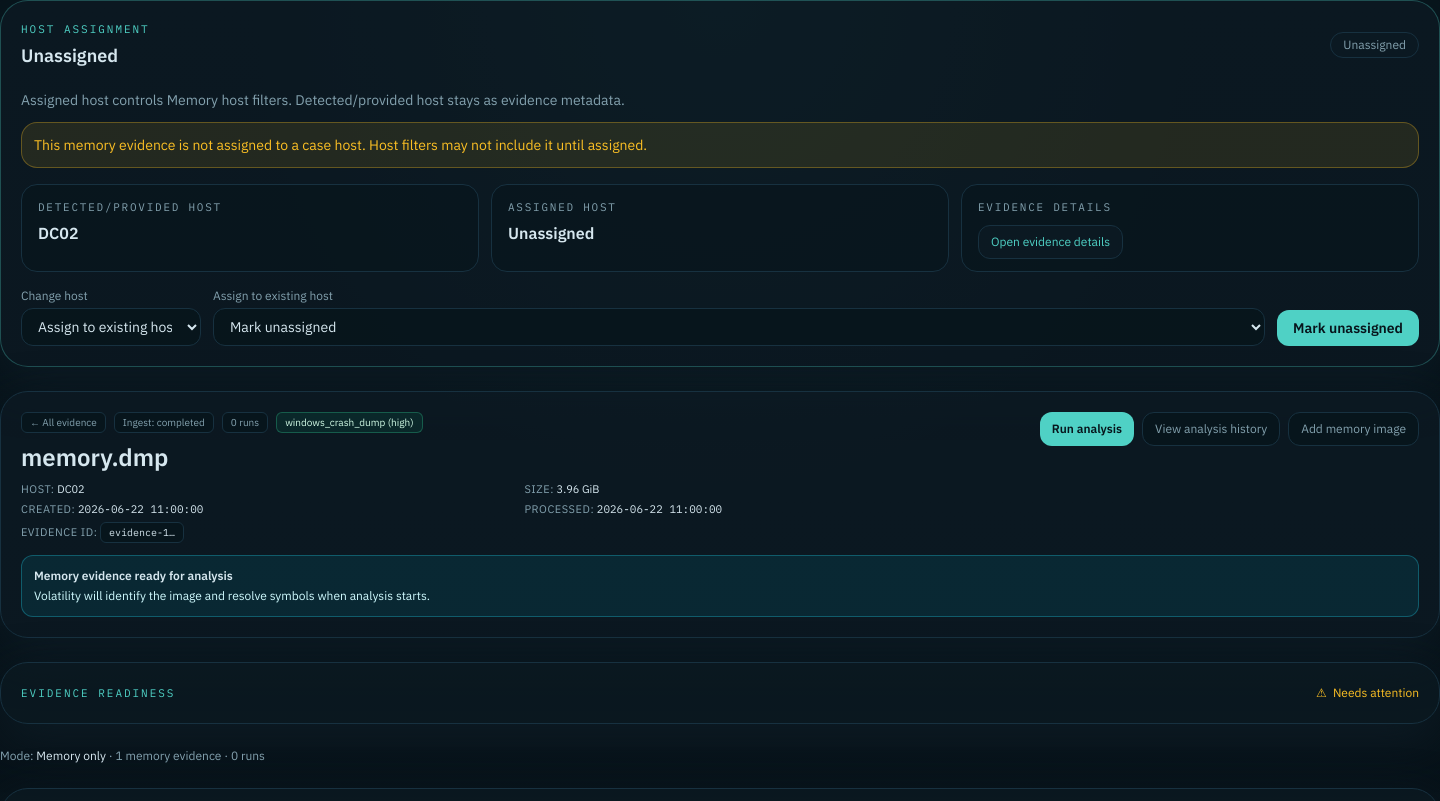
Test case: Automatic Windows symbol preparation › 12. narrow viewport (responsive)
Step 1. Click the text "Evidence readiness" → (98, 692), box 21,682 -> 176,702
(page scrolled)
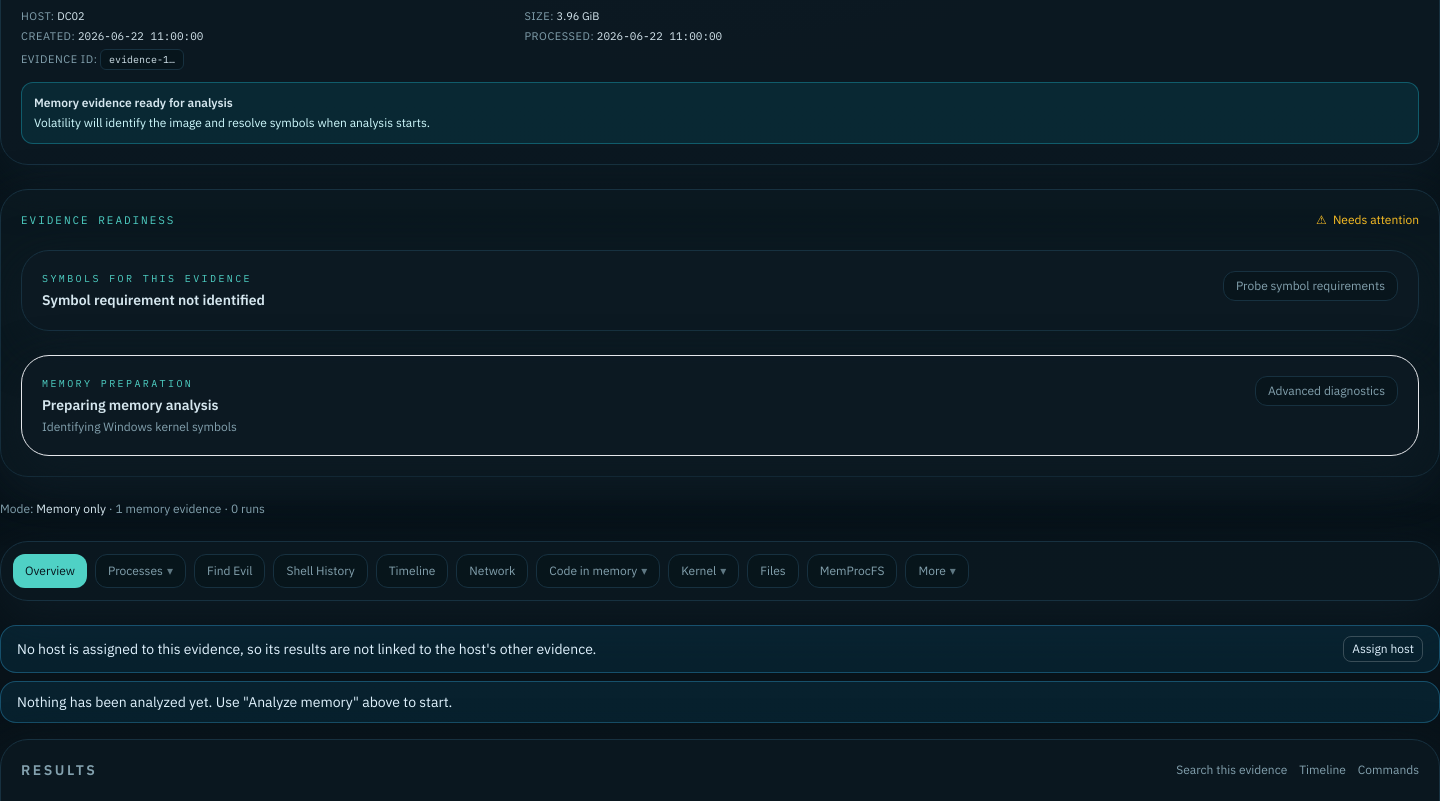
Check: the element with test id "memory-preparation-card" is shown, box 21,354 -> 1419,456
